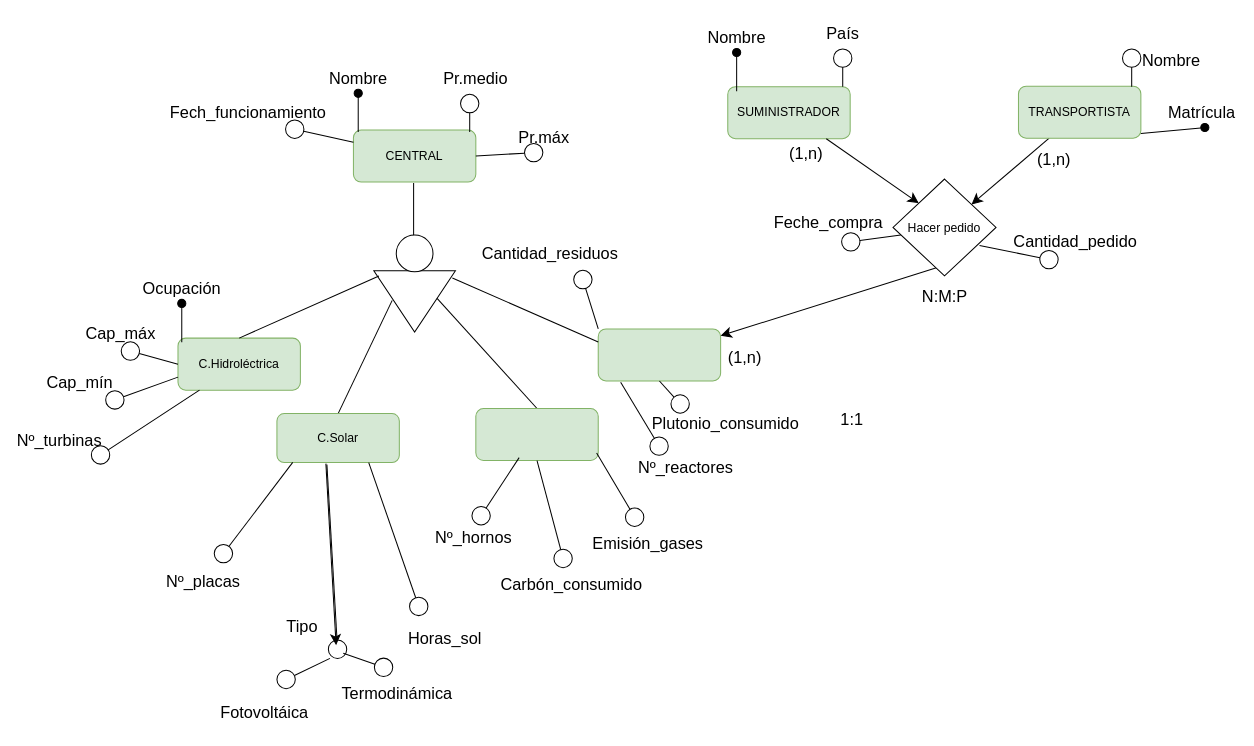
This 1254x746 diagram has some shape labels left out. Here are the shapes that lost their labels. From the top down, the box of each, then its label:
(597, 328, 721, 381): C.Nuclear
(475, 407, 598, 461): C.Témica
